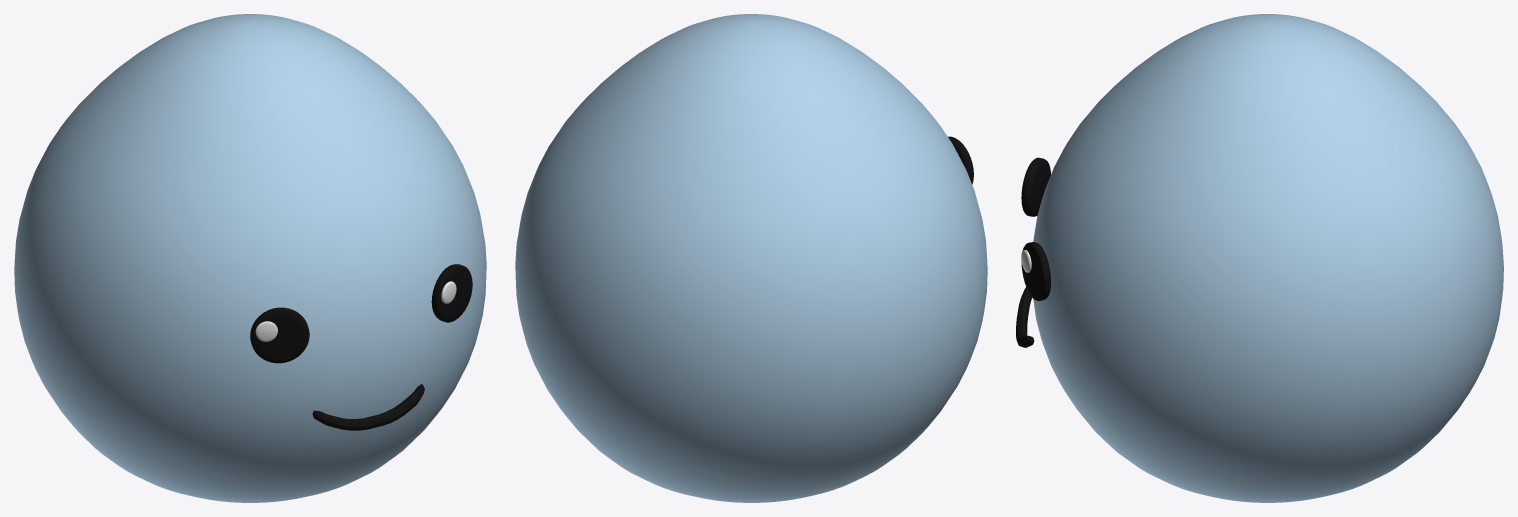
File: ch2_happy.fbx
3 views of the same model, side by side, from view 1: azimuth 30°, elevation 25°; view 2: azimuth 150°, elevation 25°; view 3: azimuth 270°, elevation 25° (orthographic).
Parts seen in each view (by area): view 1: Sphere.001; view 2: Sphere.001; view 3: Sphere.001.
Boxes of the visible parts, bbox=[...] form: Sphere.001: bbox=[14, 14, 486, 502]; Sphere.001: bbox=[515, 14, 987, 502]; Sphere.001: bbox=[1016, 14, 1503, 502].
Size of the model in its own units: 51.03 by 53.61 by 52.68.
